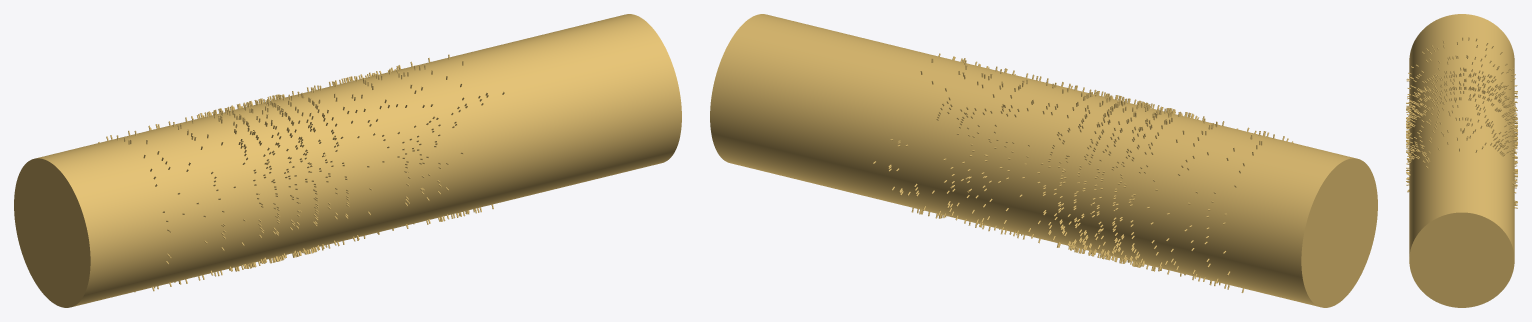
Rendered from Cylinder-6-Tchaikovsky.glb.
3 renders of one model, left to right at view 1: azimuth 30°, elevation 25°; view 2: azimuth 150°, elevation 25°; view 3: azimuth 270°, elevation 25°, orthographic. The views are drawn at different scales.
Parts seen in each view (by area): view 1: cylinder_body; view 2: cylinder_body; view 3: cylinder_body.
Boxes of the visible parts, x1,y1,x2,y2 form: cylinder_body: (14,14,681,307); cylinder_body: (710,14,1377,307); cylinder_body: (1409,14,1514,307).
Size of the model in its own units: 0.214 by 0.051 by 0.051.
